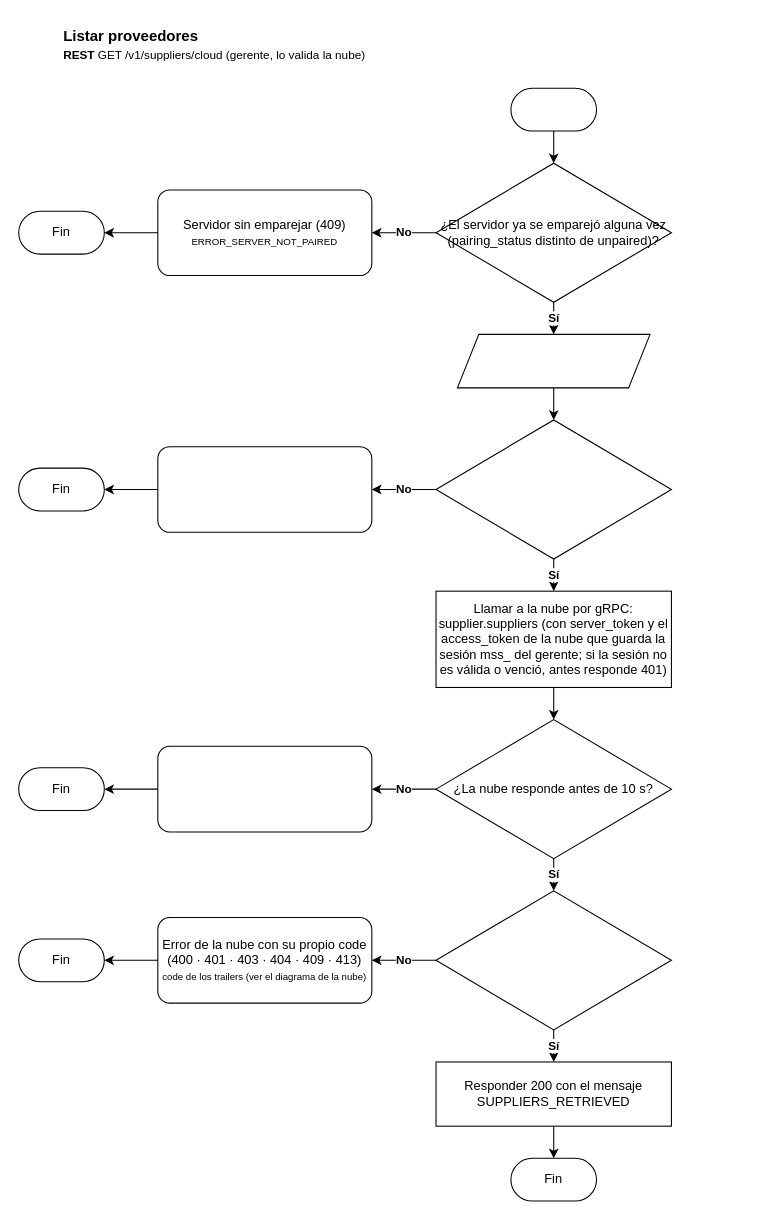
Some shapes in this 765 by 1220 pixel diagram are drawn without their labels. Here are the shapes that lost their labels. From the top down, the centre of each, then its label:
At pixel 553 109: "Inicio".
At pixel 553 360: "Recibir datos".
At pixel 264 489: "Datos inválidos (400) ERROR_BAD_REQUEST".
At pixel 553 489: "¿Los datos son válidos?".
At pixel 264 788: "La nube no responde (503) ERROR_CLOUD_UNAVAILABLE · ERROR_SERVER_UNLINKED".
At pixel 553 960: "¿La nube acepta la petición?".
